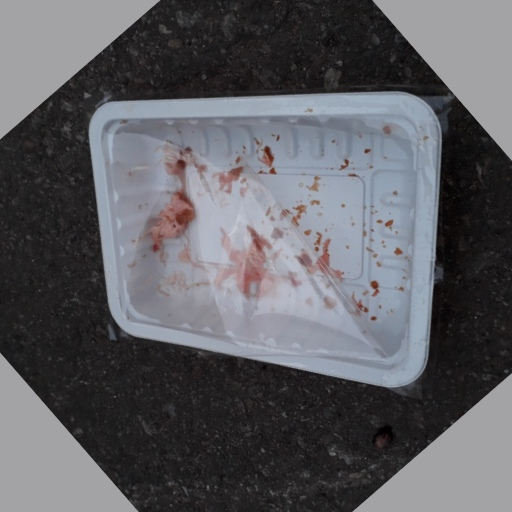Plastic_4: (86, 84, 443, 392)
